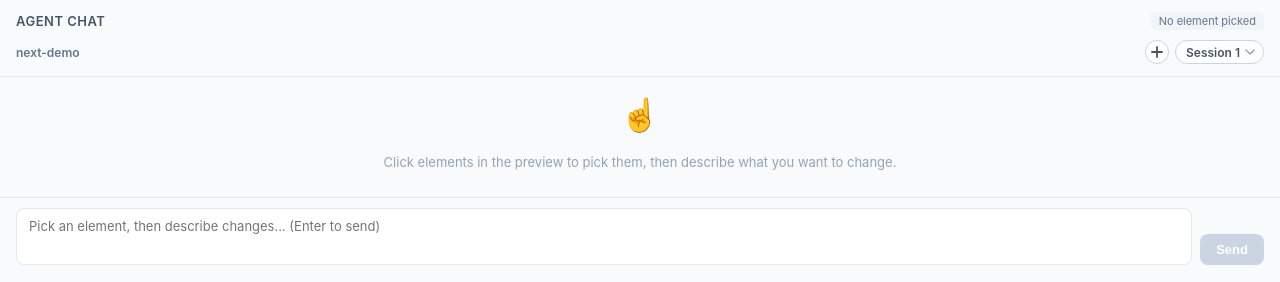
Test: ChatPanel layout › shows delete buttons on each session row
Click the button with aria-label "Current session:" at [1220, 52], box [1175,40,1264,64]
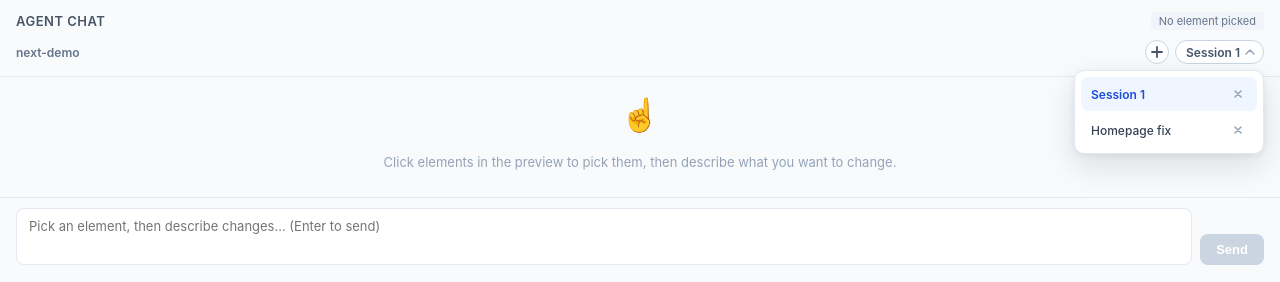
Now the number of buttons named "Delete" is 2, box [1227,83,1249,105]; [1227,119,1249,141]
